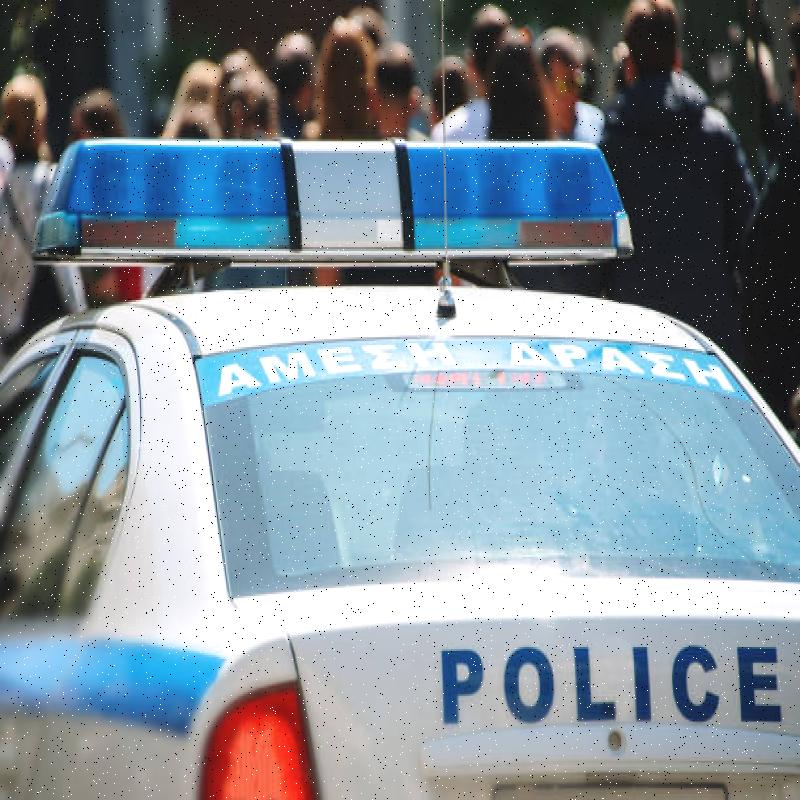AmbulanceSiren: (55, 100, 655, 316)
